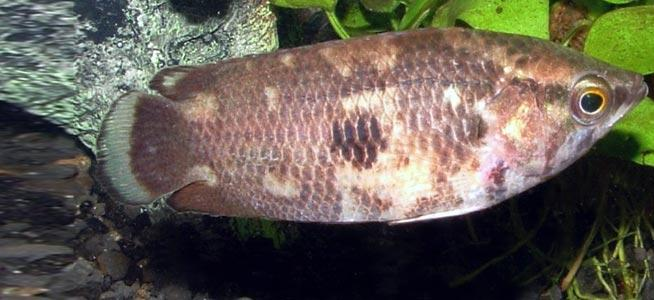Climbing Perch: (98, 26, 649, 222)
